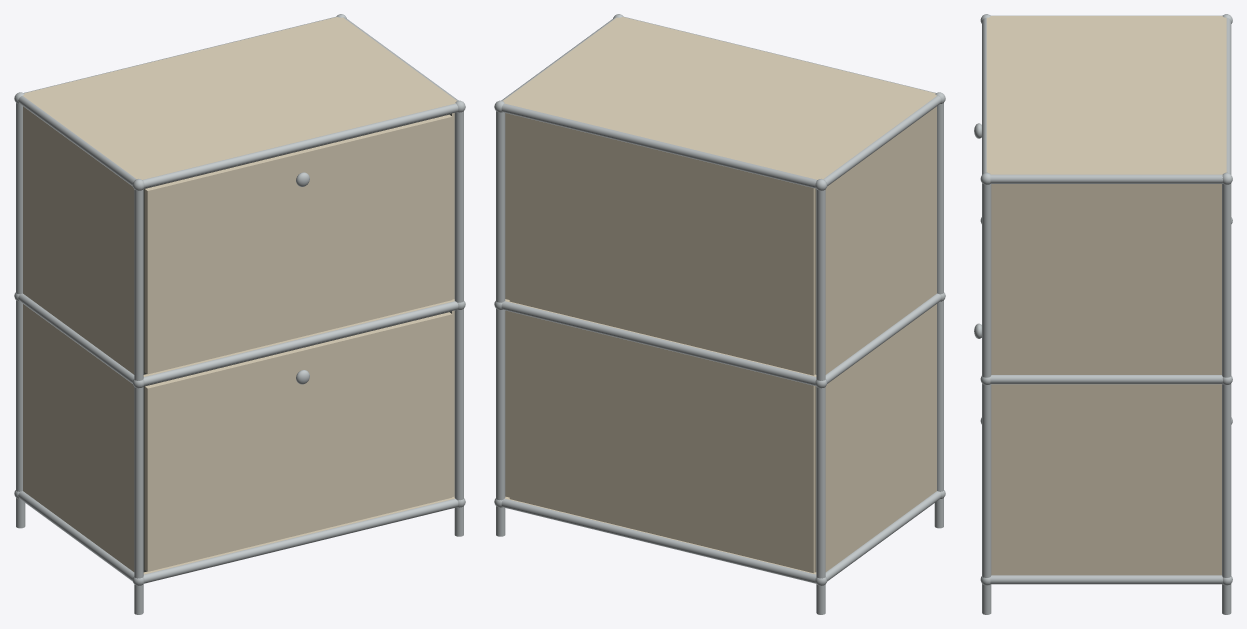
Rendered from layer-600-750-ivory.glb.
3 views of the same model, side by side, from view 1: azimuth 30°, elevation 25°; view 2: azimuth 150°, elevation 25°; view 3: azimuth 270°, elevation 25° (orthographic).
Visible parts, largest first — view 1: drop down door (×2), left side, horizontal panel (×3), 15mm stainless tube (×9), dark door reveal (×2), right side; view 2: back, left side, horizontal panel, 15mm stainless tube (×9), right side; view 3: right side, horizontal panel, 15mm stainless tube (×7).
Part boxes in pixels (box(x1,y1,x2,y2)): drop down door (×2): box(144, 114, 452, 571); left side: box(23, 106, 134, 571); horizontal panel (×3): box(23, 17, 456, 574); 15mm stainless tube (×9): box(16, 96, 463, 614); dark door reveal (×2): box(143, 113, 451, 572); right side: box(452, 113, 454, 496); back: box(509, 114, 815, 573); left side: box(815, 106, 936, 572); horizontal panel: box(503, 17, 936, 179); 15mm stainless tube (×9): box(496, 96, 943, 614); right side: box(505, 113, 509, 497); right side: box(991, 184, 1221, 575); horizontal panel: box(986, 16, 1226, 174); 15mm stainless tube (×7): box(982, 18, 1231, 614).
Bounding box in the file's own units: 0.6 × 0.75 × 0.4.
